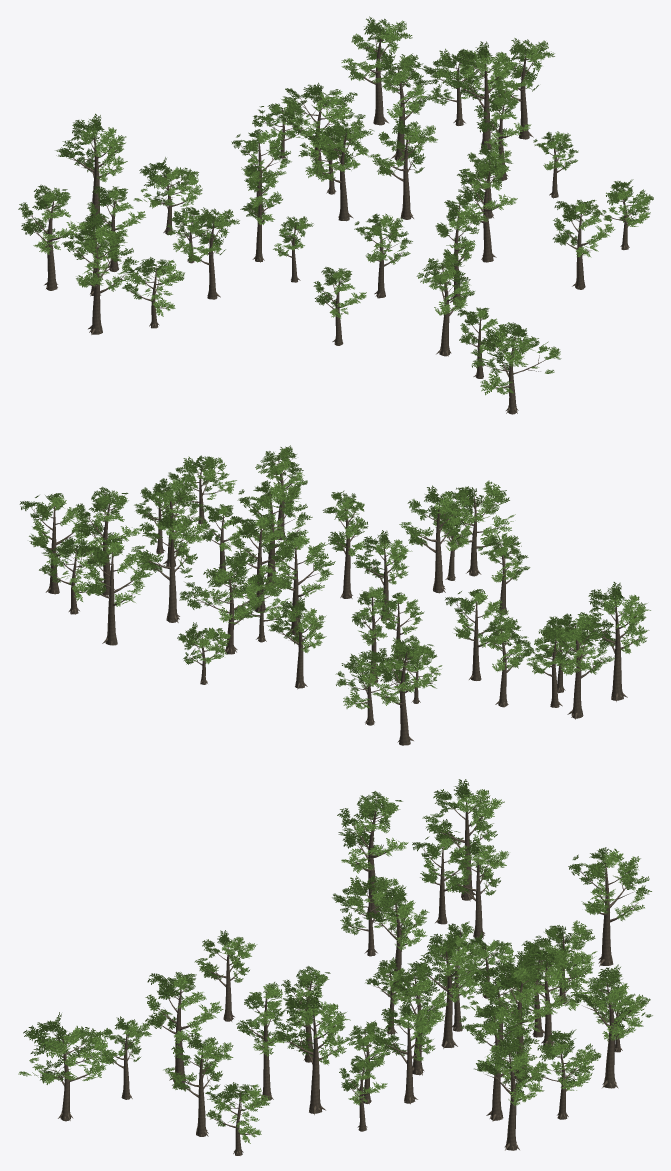
File: Canopy_11_16.glb
3 renders of one model, top to bottom at view 1: azimuth 30°, elevation 25°; view 2: azimuth 150°, elevation 25°; view 3: azimuth 270°, elevation 25°, orthographic. The views are drawn at different scales.
Parts seen in each view (by area): view 1: Canopy_11_16; view 2: Canopy_11_16; view 3: Canopy_11_16.
Part boxes in pixels (x1=…): Canopy_11_16: x1=18, y1=16, x2=653, y2=414; Canopy_11_16: x1=19, y1=445, x2=650, y2=745; Canopy_11_16: x1=18, y1=779, x2=652, y2=1155.
Size of the model in its own units: 107 by 34.88 by 95.64.
Materials: 2 (2 with a texture image).
